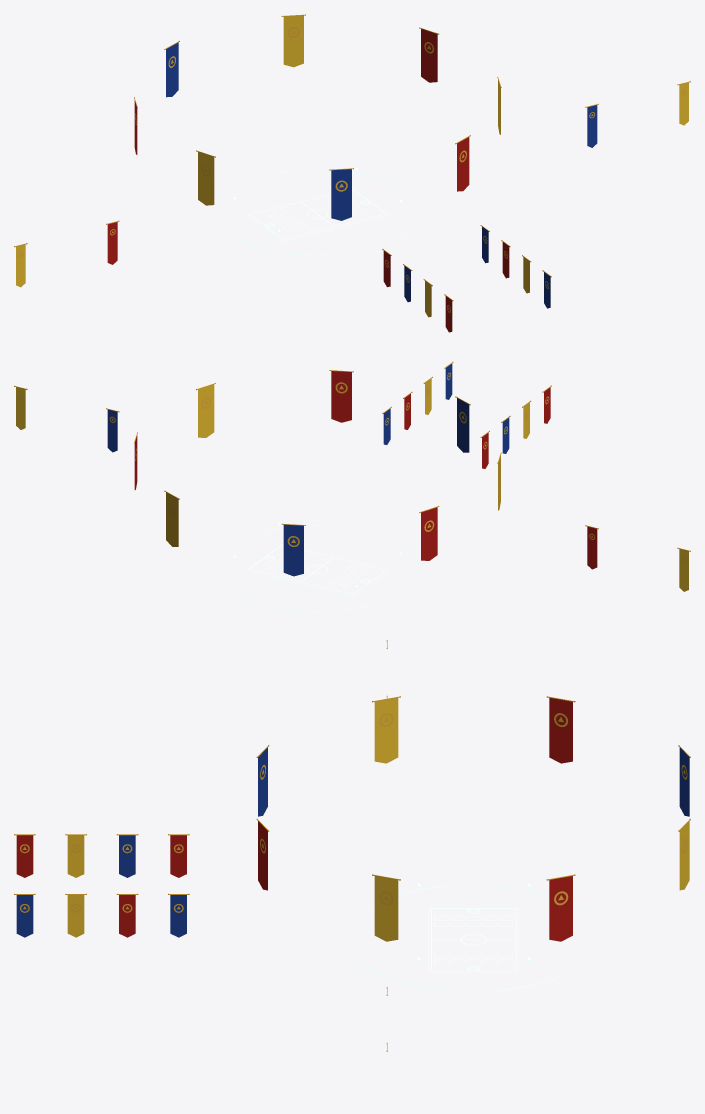
Rendered from SM_Academy_NoCol.fbx.
3 renders of one model, top to bottom at view 1: azimuth 30°, elevation 25°; view 2: azimuth 150°, elevation 25°; view 3: azimuth 270°, elevation 25°, orthographic. The views are drawn at different scales.
Parts seen in each view (by area): view 1: SM_Academy_NoCol; view 2: SM_Academy_NoCol; view 3: SM_Academy_NoCol.
Part boxes in pixels (bbox=[...]): SM_Academy_NoCol: bbox=[14, 14, 690, 332]; SM_Academy_NoCol: bbox=[14, 361, 690, 611]; SM_Academy_NoCol: bbox=[14, 640, 690, 1051].
Bounding box in the file's own units: 152 × 26.43 × 106.
